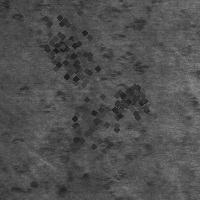rolled-in_scale: (6, 80, 138, 199), (32, 31, 152, 106), (18, 0, 102, 78), (49, 81, 123, 155), (44, 37, 102, 95), (106, 76, 150, 120)
